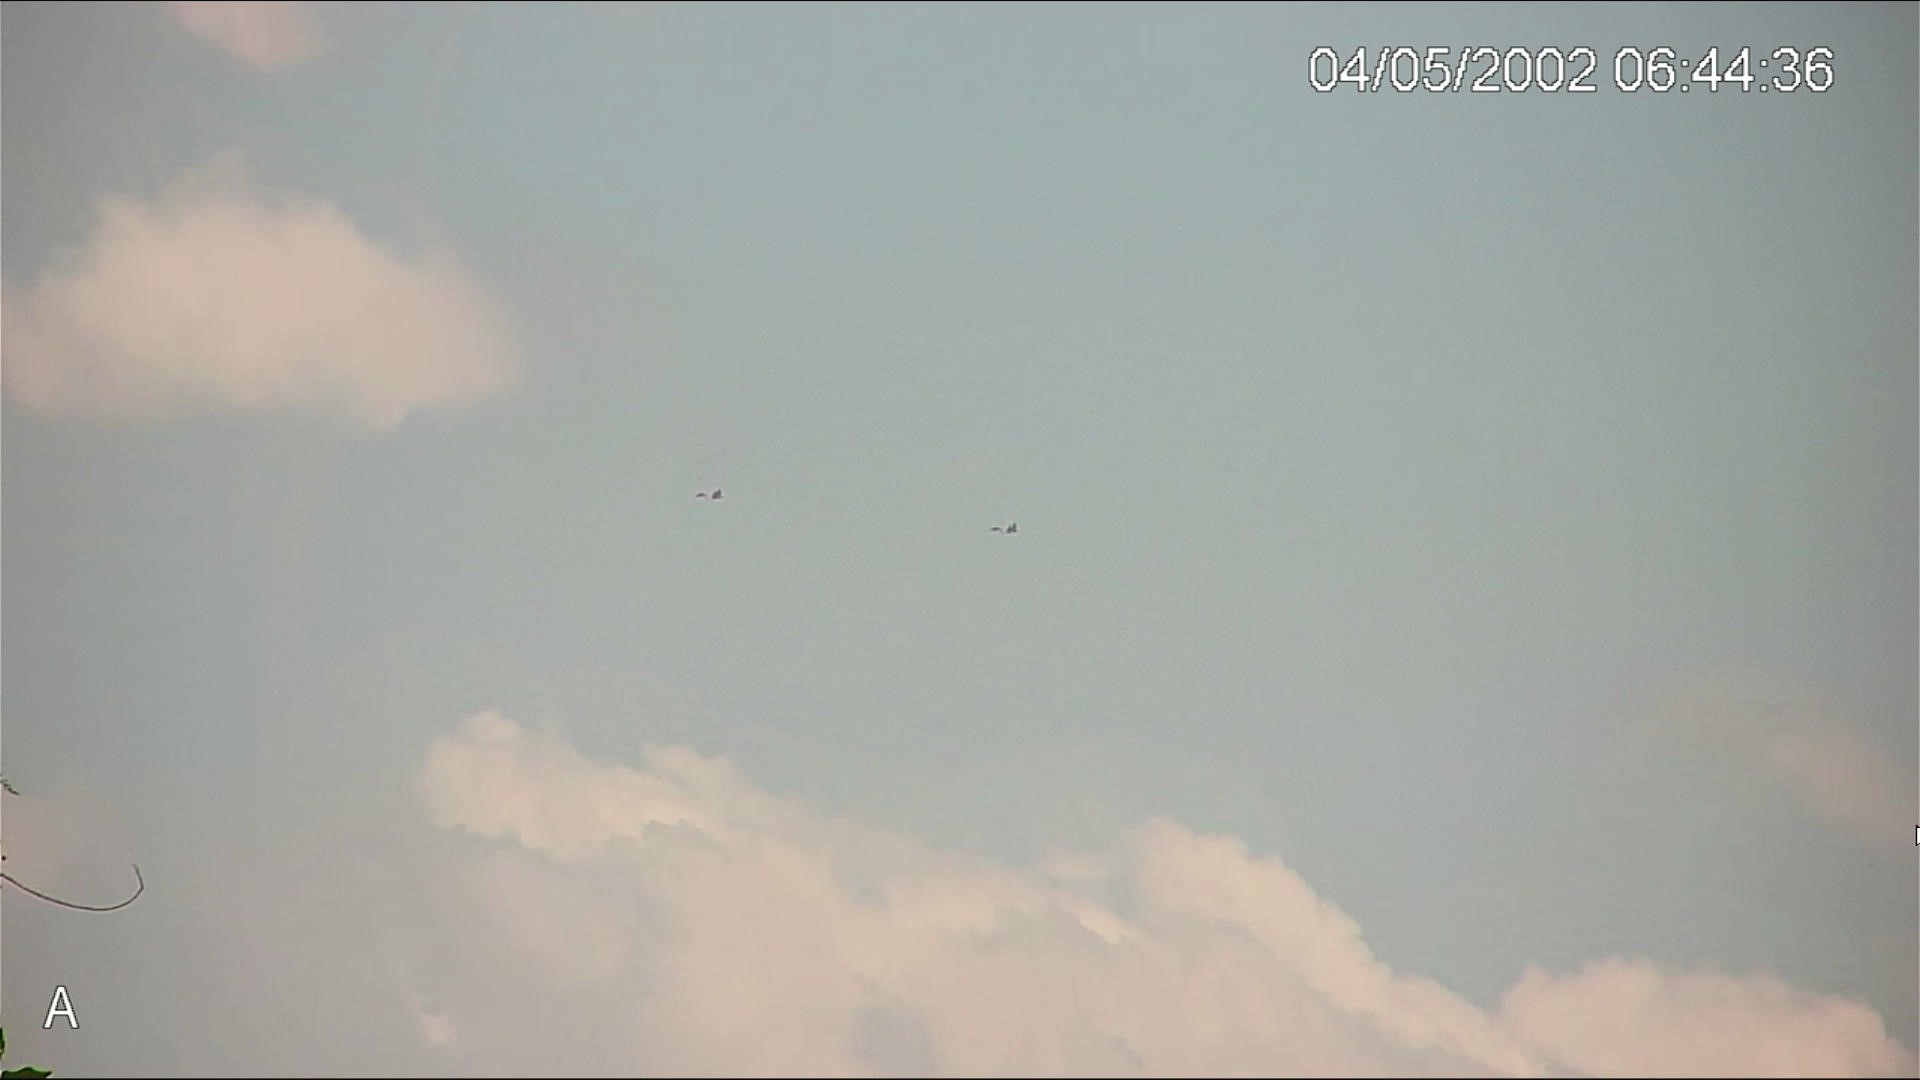SU_30: (690, 485, 727, 502), (986, 521, 1021, 537)
